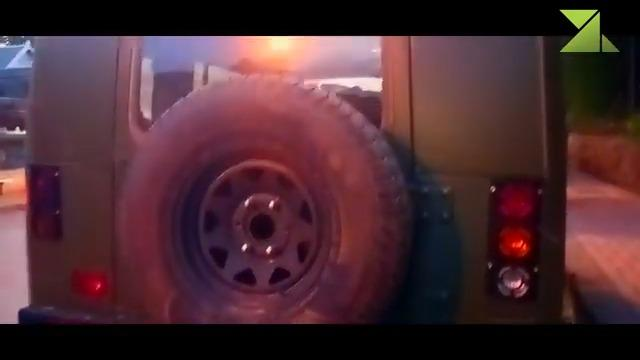MIL_HMMWV: (20, 35, 568, 326)
